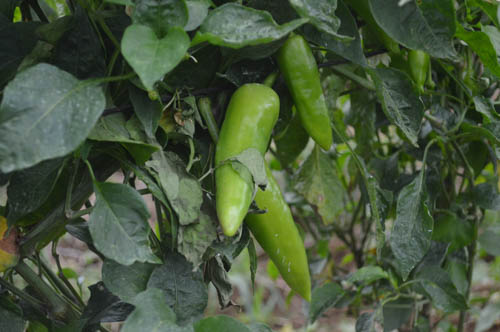ChiliPepper: (211, 83, 282, 239), (253, 182, 314, 301), (279, 36, 335, 149)
